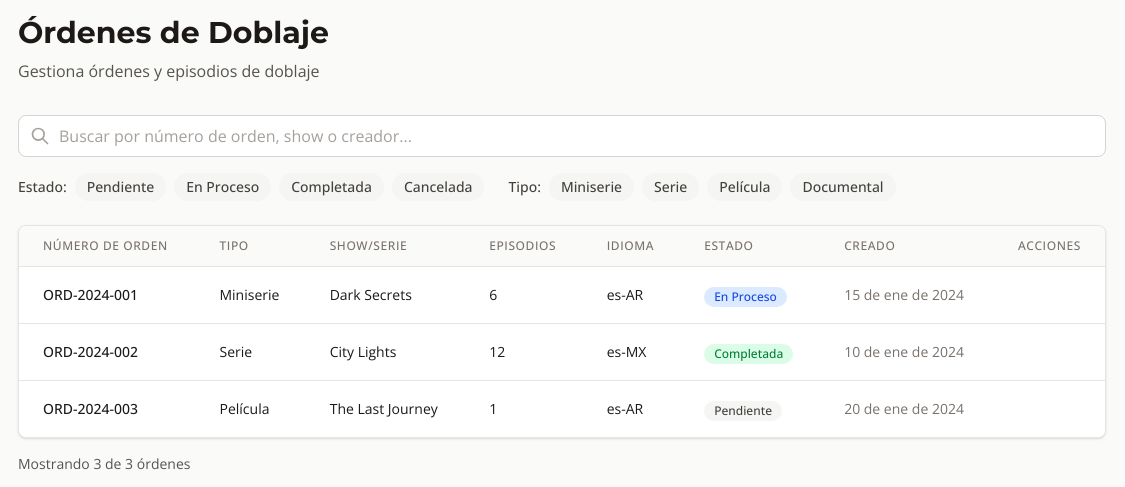
Scenario: OrdersList › filters orders by search query
Type "Dark" into the field with placeholder "Buscar por número de orden, show o creador..." at (562, 136), box x1=18 y1=115 x2=1106 y2=157
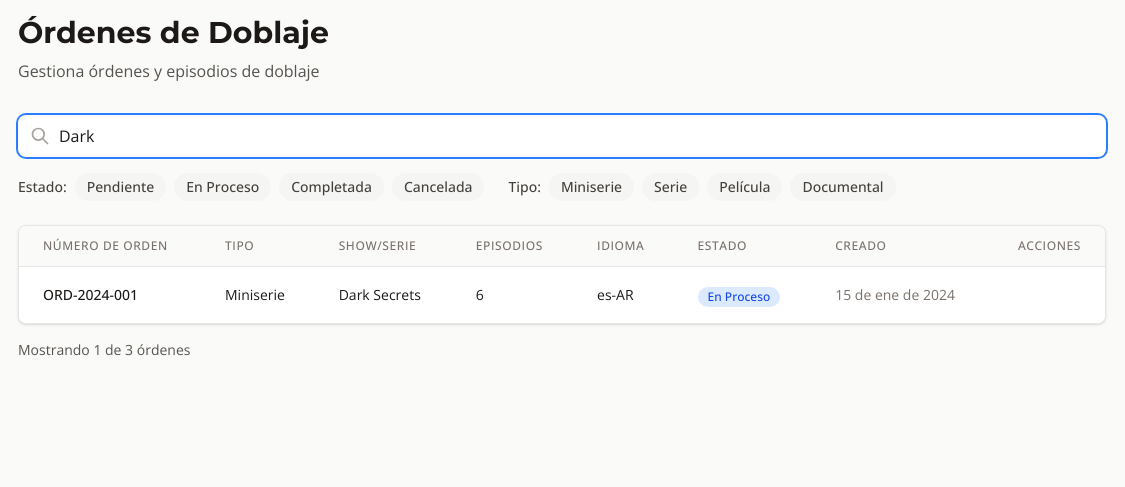
expect the text "ORD-2024-001" is shown: met, box x1=43 y1=285 x2=138 y2=304
expect the text "ORD-2024-002" is gone: met
expect the text "ORD-2024-003" is gone: met
